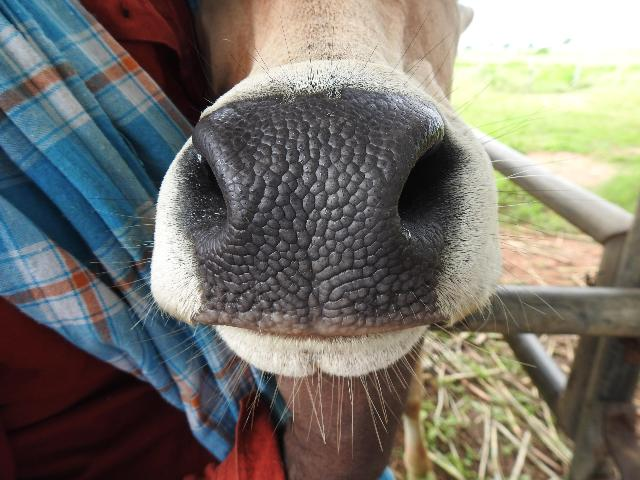Muzzle: (216, 110, 400, 330)
